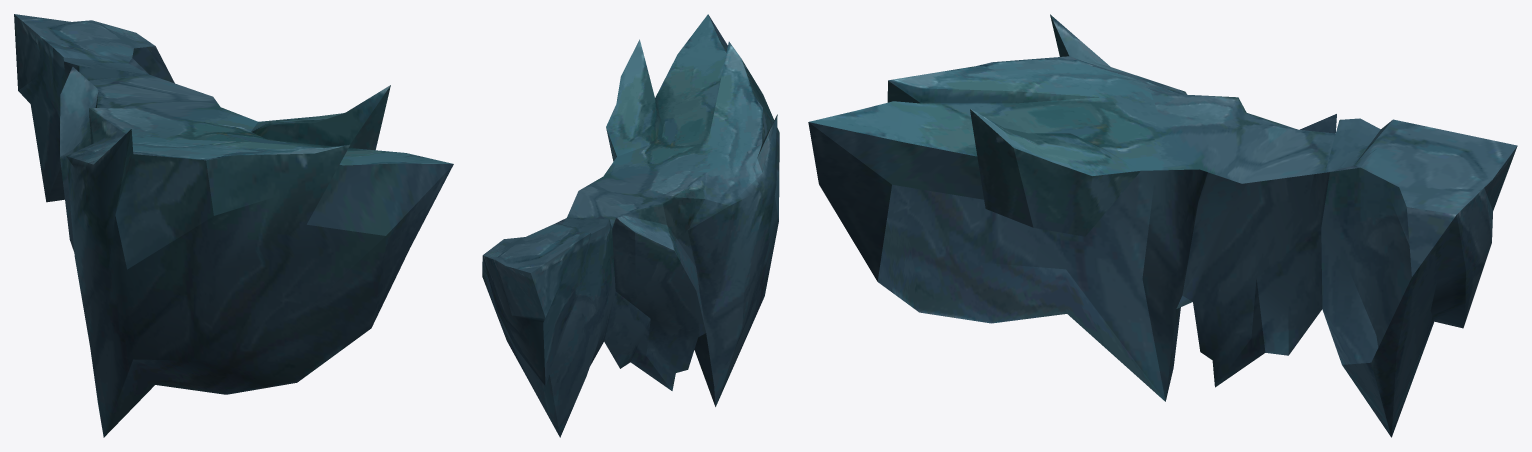
The model's file is map_111_shitou_6.fbx.
3 renders of one model, left to right at view 1: azimuth 30°, elevation 25°; view 2: azimuth 150°, elevation 25°; view 3: azimuth 270°, elevation 25°, orthographic. The views are drawn at different scales.
Visible parts, largest first — view 1: map_111_shitou_6; view 2: map_111_shitou_6; view 3: map_111_shitou_6.
Boxes of the visible parts, bbox=[...] form: map_111_shitou_6: bbox=[14, 14, 453, 437]; map_111_shitou_6: bbox=[482, 14, 779, 437]; map_111_shitou_6: bbox=[808, 14, 1517, 437].
Bounding box in the file's own units: 2.61 × 3.87 × 6.33.
